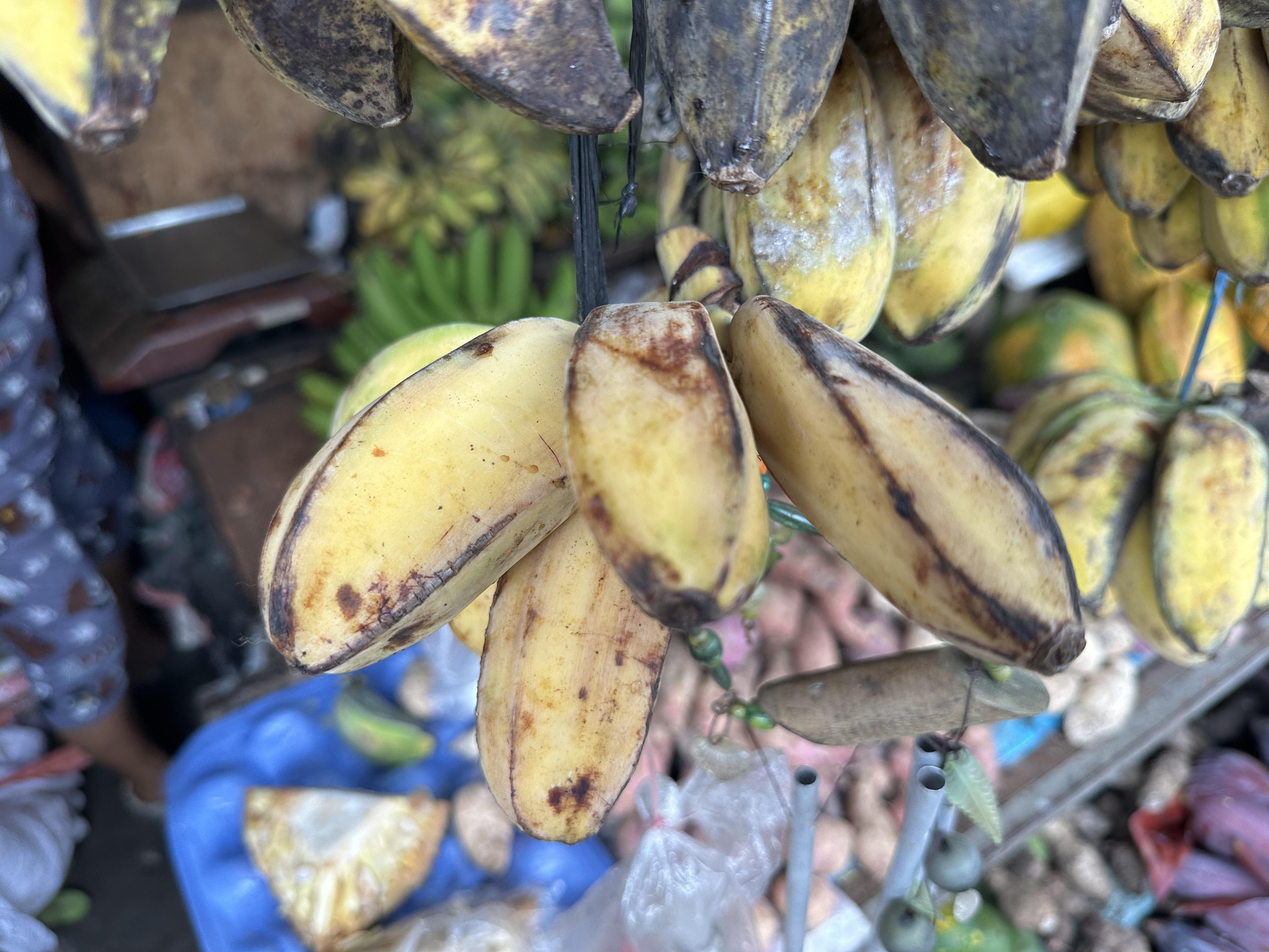ripe: (261, 292, 1084, 846)
underripe: (1002, 372, 1269, 667), (1070, 30, 1269, 294)
